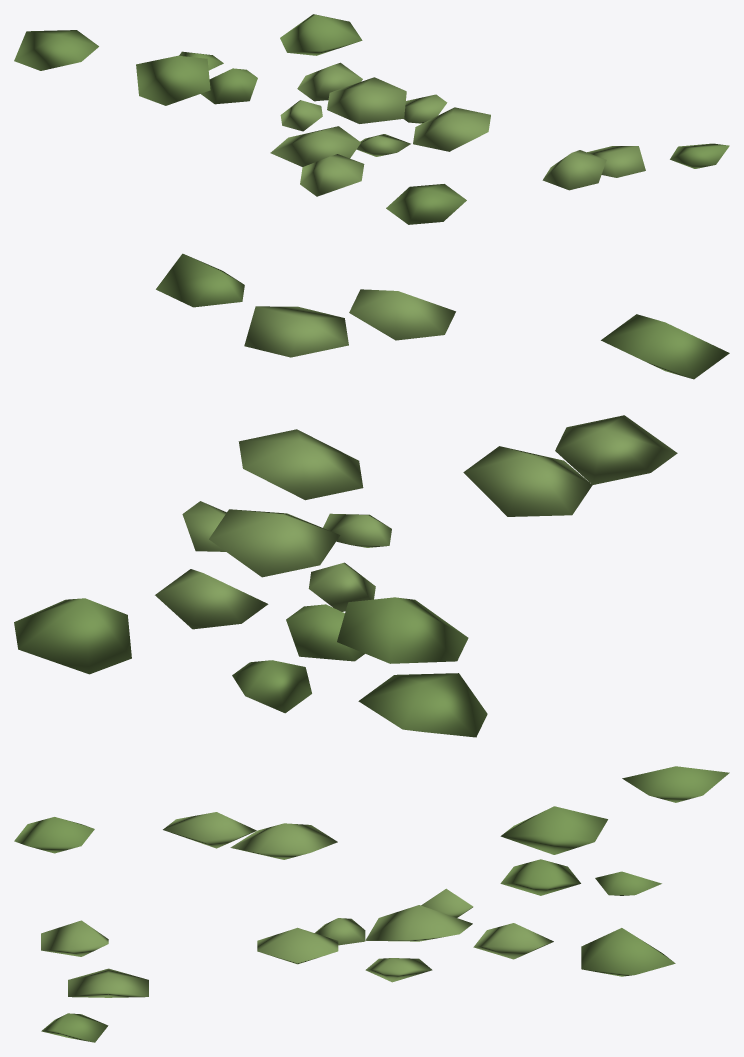
The model's file is canopy-2--1-8.glb.
3 views of the same model, one above another, from view 1: azimuth 30°, elevation 25°; view 2: azimuth 150°, elevation 25°; view 3: azimuth 270°, elevation 25° (orthographic). The views are drawn at different scales.
Bounding box in the file's own units: 115 × 17.5 × 132.
Materials: 1 (1 with a texture image).
